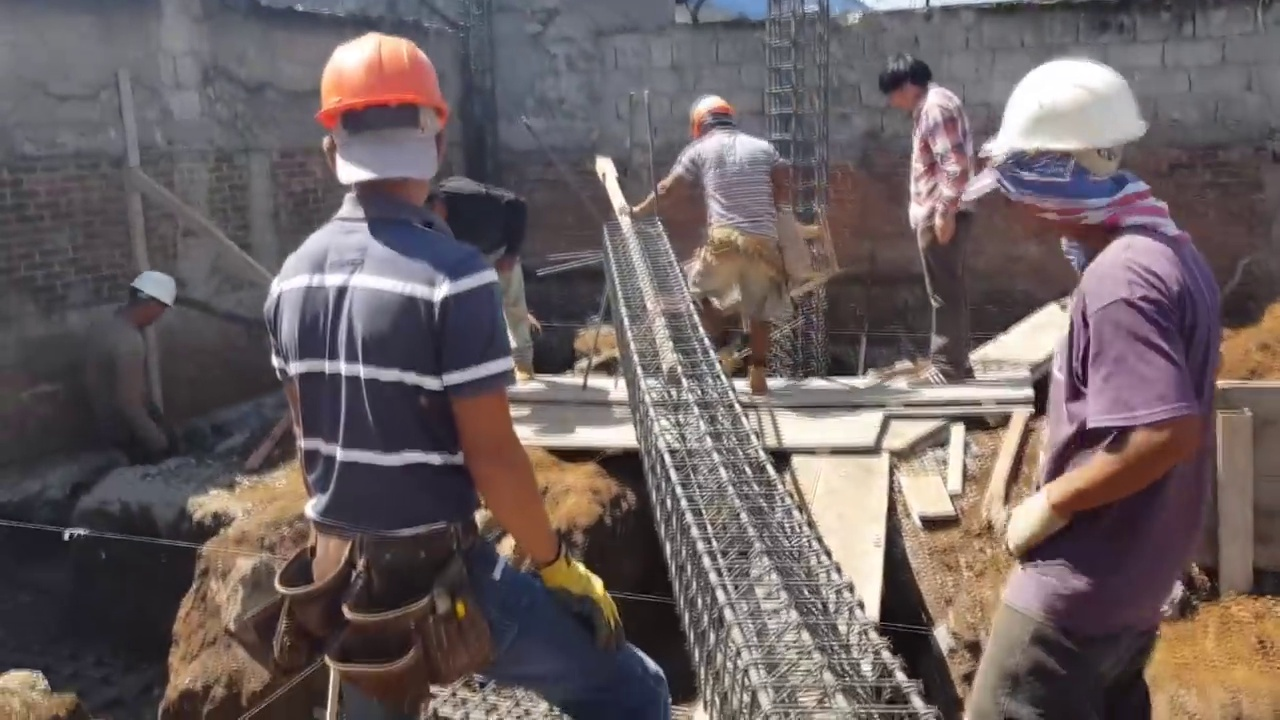helmet: (982, 53, 1148, 159), (312, 27, 456, 132), (687, 96, 739, 140), (129, 269, 177, 311)
helmet-off: (876, 51, 934, 117)
helmet-on: (980, 46, 1158, 274), (308, 22, 457, 222), (110, 264, 177, 330), (685, 90, 742, 150)
person: (262, 21, 673, 718), (966, 45, 1222, 714), (618, 88, 794, 393), (874, 46, 980, 392), (428, 173, 538, 388), (75, 269, 177, 467)
